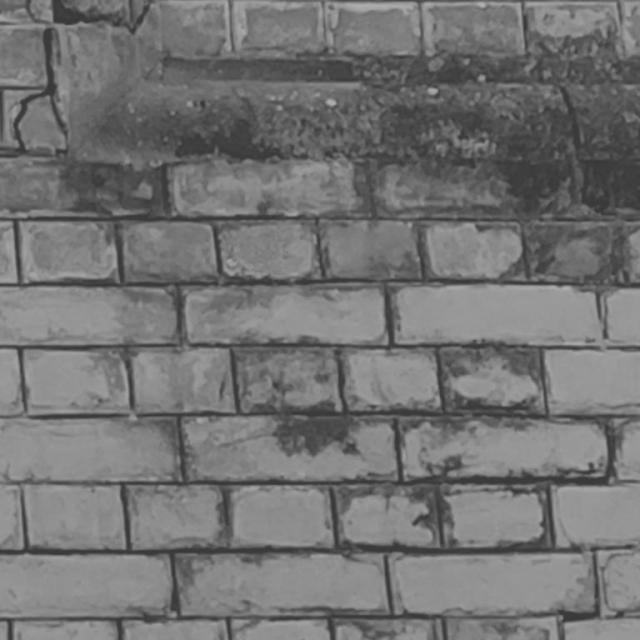crack: (12, 1, 70, 155)
